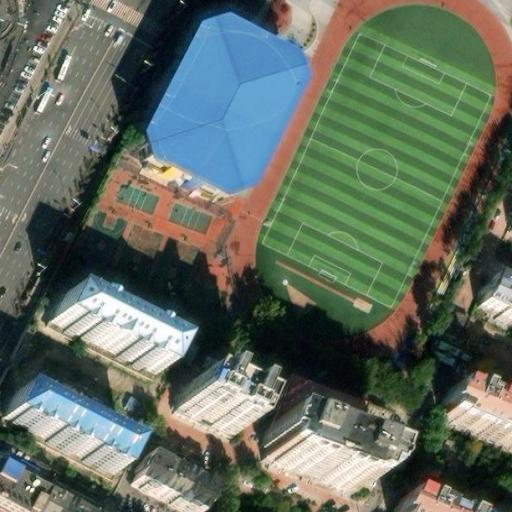building: (136, 48, 301, 235), (250, 425, 376, 512), (42, 288, 167, 372), (267, 379, 372, 461), (130, 448, 220, 512), (436, 391, 512, 457), (157, 369, 235, 430), (391, 483, 489, 512), (475, 288, 512, 338)
